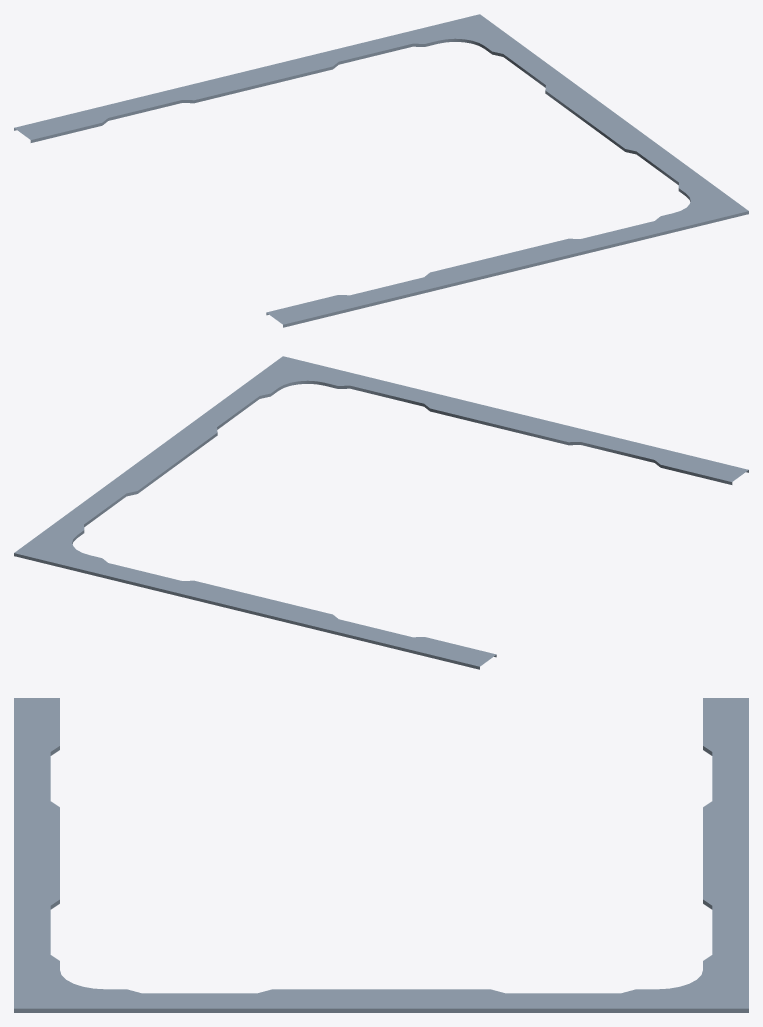
File: RoadSideDeadend.fbx
The picture shows the model from 3 angles, top to bottom: view 1: azimuth 30°, elevation 25°; view 2: azimuth 150°, elevation 25°; view 3: azimuth 270°, elevation 25°; orthographic projection. The views are drawn at different scales.
Parts seen in each view (by area): view 1: RoadSideDead_LOD0; view 2: RoadSideDead_LOD0; view 3: RoadSideDead_LOD0.
Boxes of the visible parts, left/top/right/bottom form: RoadSideDead_LOD0: left=14, top=14, right=748, bottom=327; RoadSideDead_LOD0: left=14, top=356, right=748, bottom=669; RoadSideDead_LOD0: left=14, top=698, right=748, bottom=1012.
Size of what is drawn, in the model's own units: 1600 by 10 by 1600.
